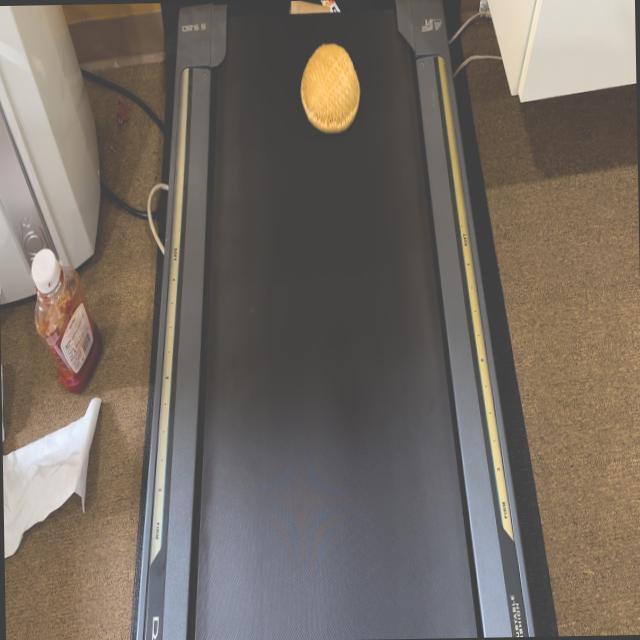Trash: (297, 39, 368, 124)
